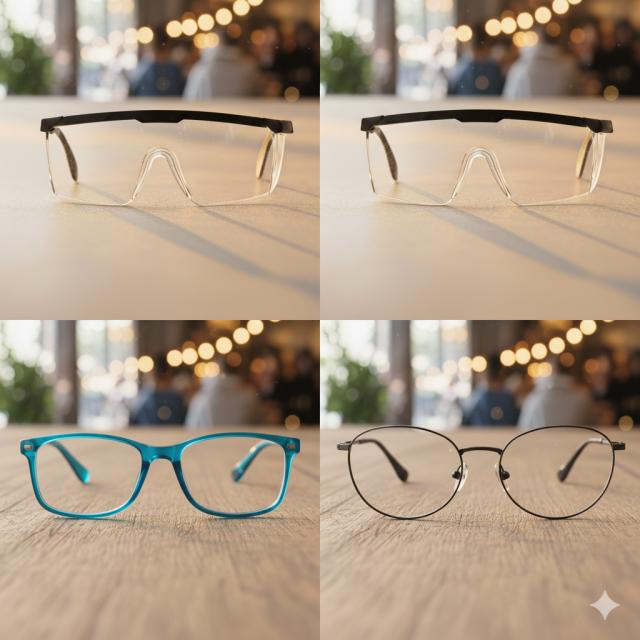oculos-epi: (351, 104, 618, 214), (34, 107, 301, 212)
sem_oculos: (20, 432, 299, 518), (443, 426, 625, 519)
